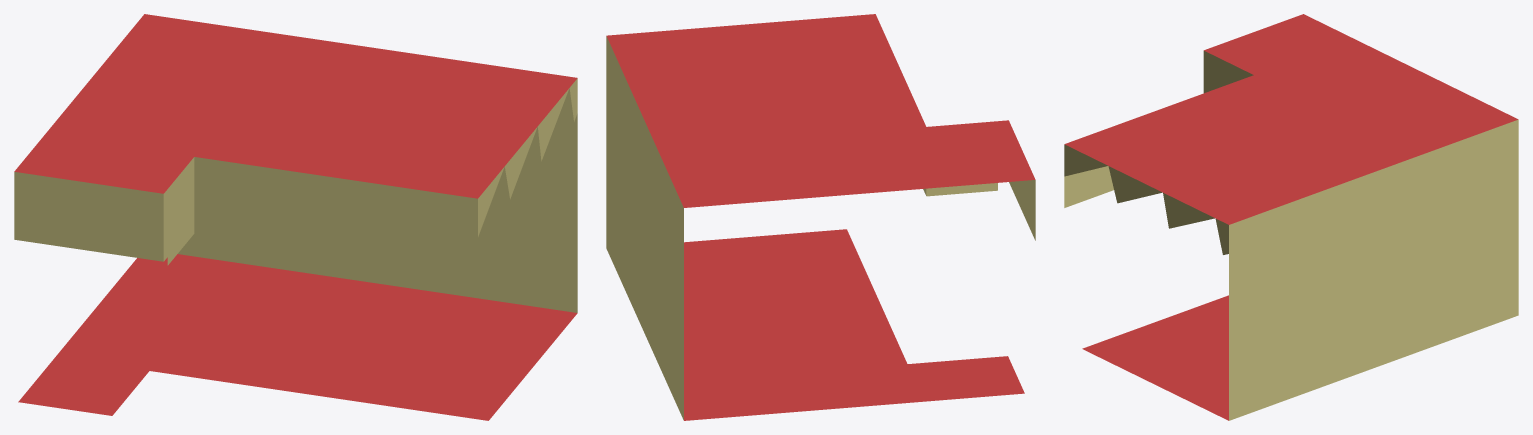
The picture shows the model from 3 angles, left to right: view 1: azimuth 30°, elevation 25°; view 2: azimuth 150°, elevation 25°; view 3: azimuth 270°, elevation 25°; orthographic projection. The views are drawn at different scales.
Size of the model in its own units: 30.49 by 27.75 by 13.21.
